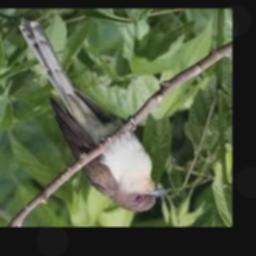Cuckoo: (19, 18, 168, 212)
